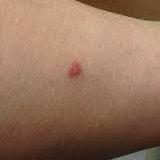Chiggers: (64, 58, 84, 80)
